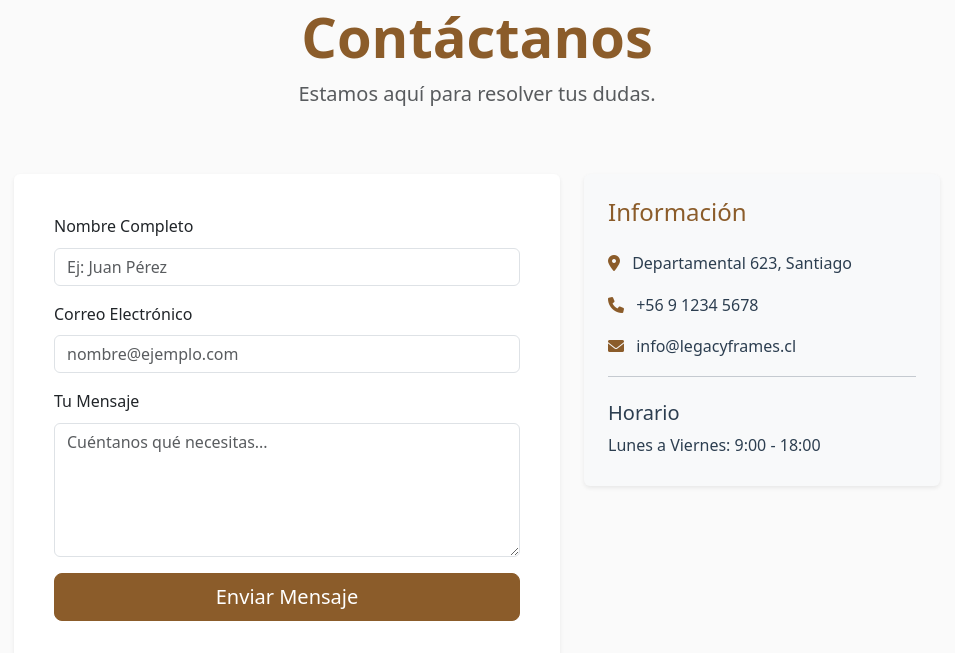
Test: Contacto Component › muestra errores de validación si se envía el formulario vacío
Click the button "Enviar Mensaje" at x=287, y=597, box [54,573,520,621]
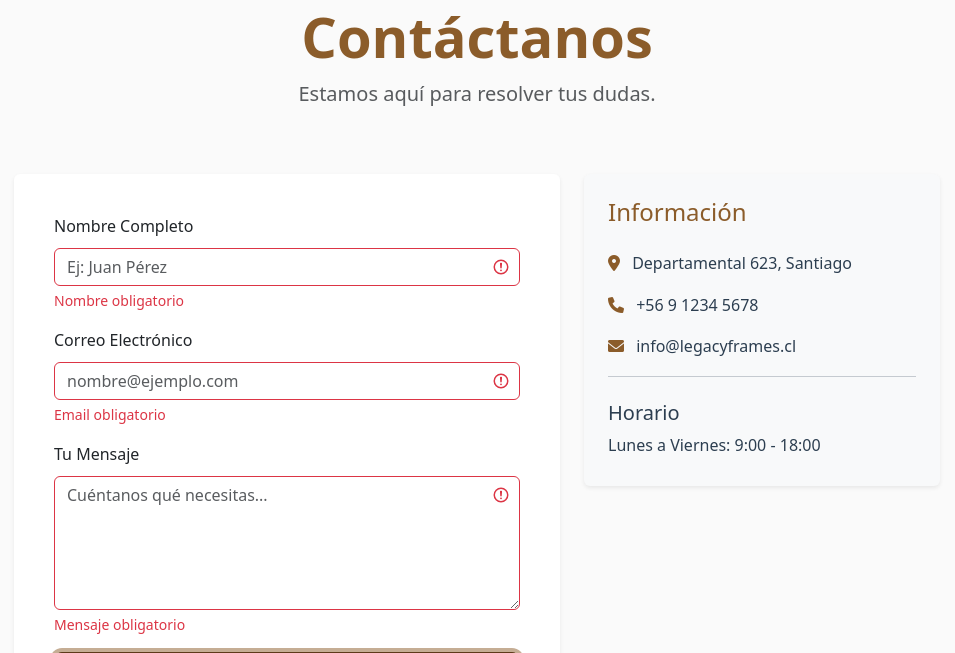
expect the text "Nombre obligatorio" is shown: met, box [54,291,184,310]
expect the text "Email obligatorio" is shown: met, box [54,405,166,424]
expect the text "Mensaje obligatorio" is shown: met, box [54,615,185,634]
